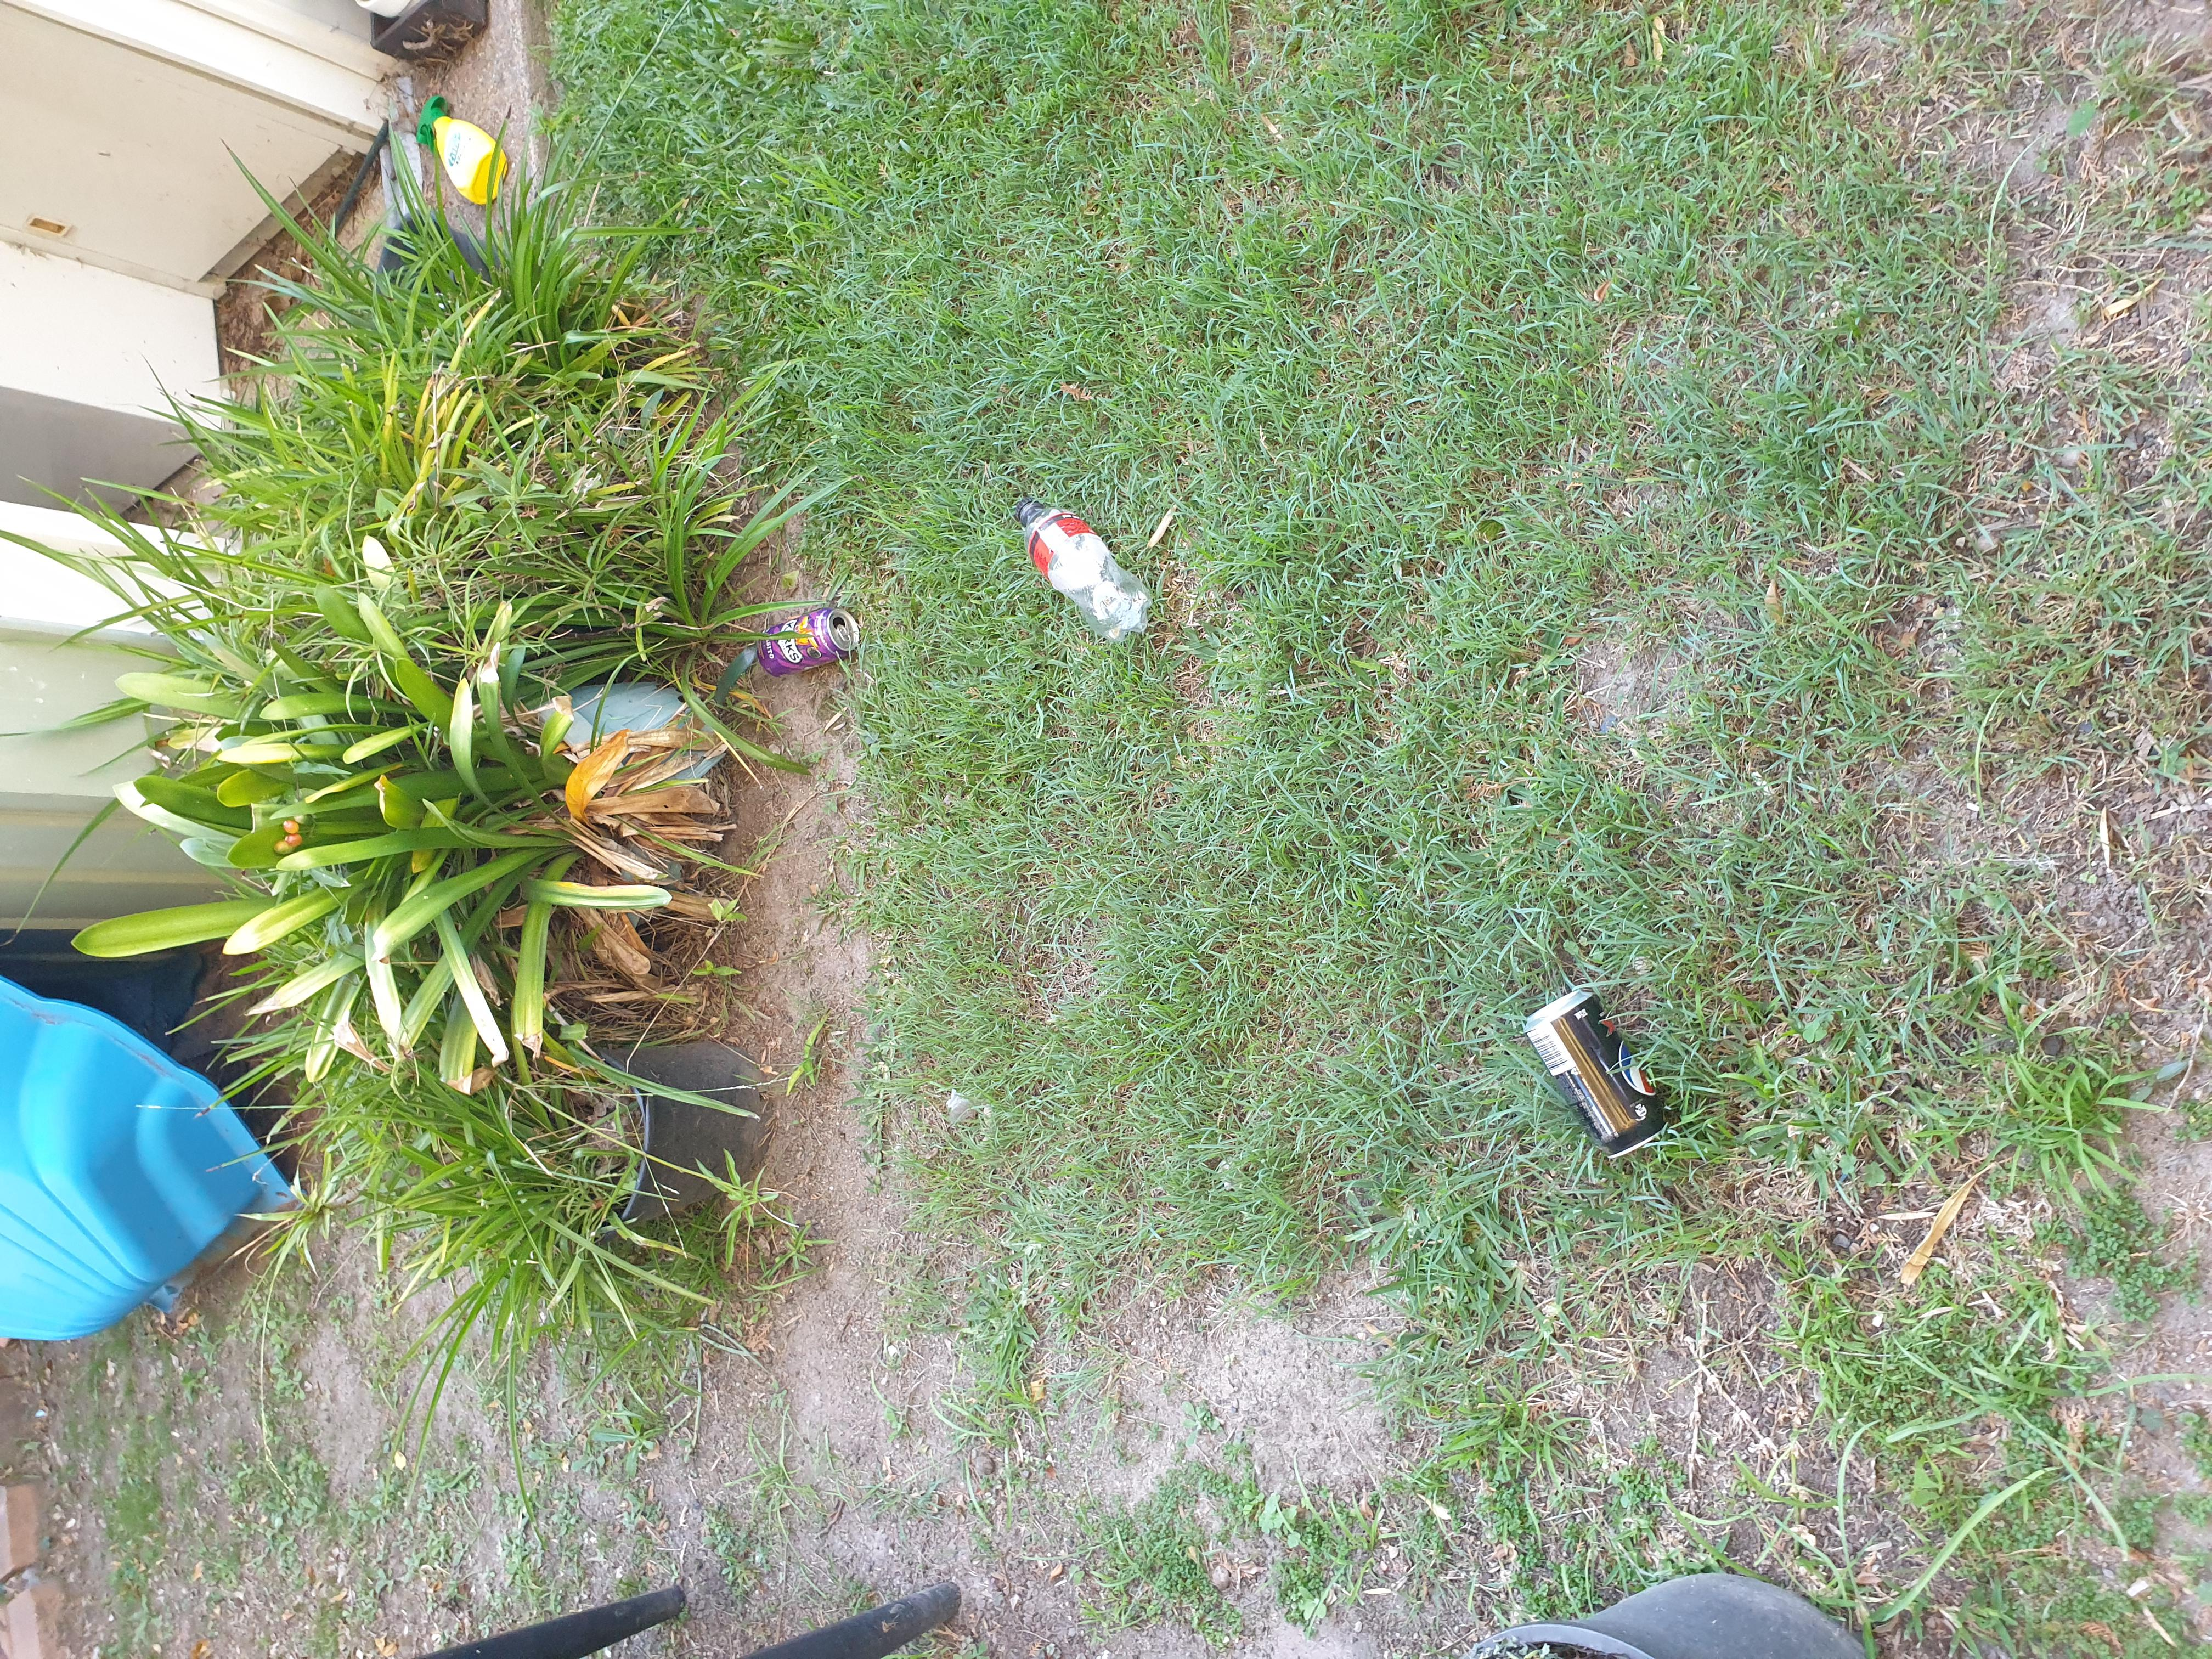Plastic Bottle: (1524, 988, 1665, 1157), (1015, 500, 1153, 640), (758, 606, 860, 676)
